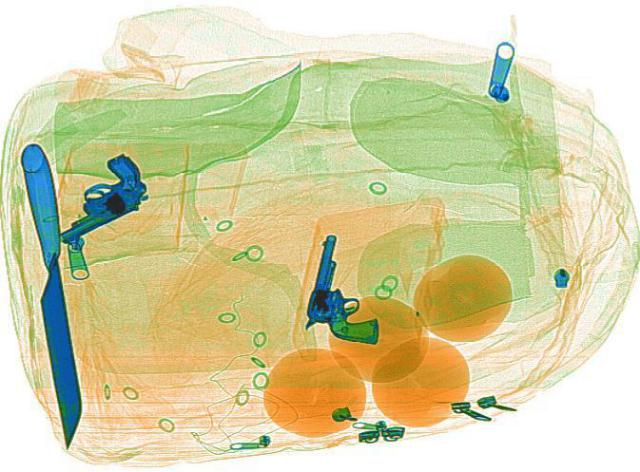Gun: (20, 149, 168, 241), (296, 232, 400, 342)
Knife: (16, 140, 86, 447)
